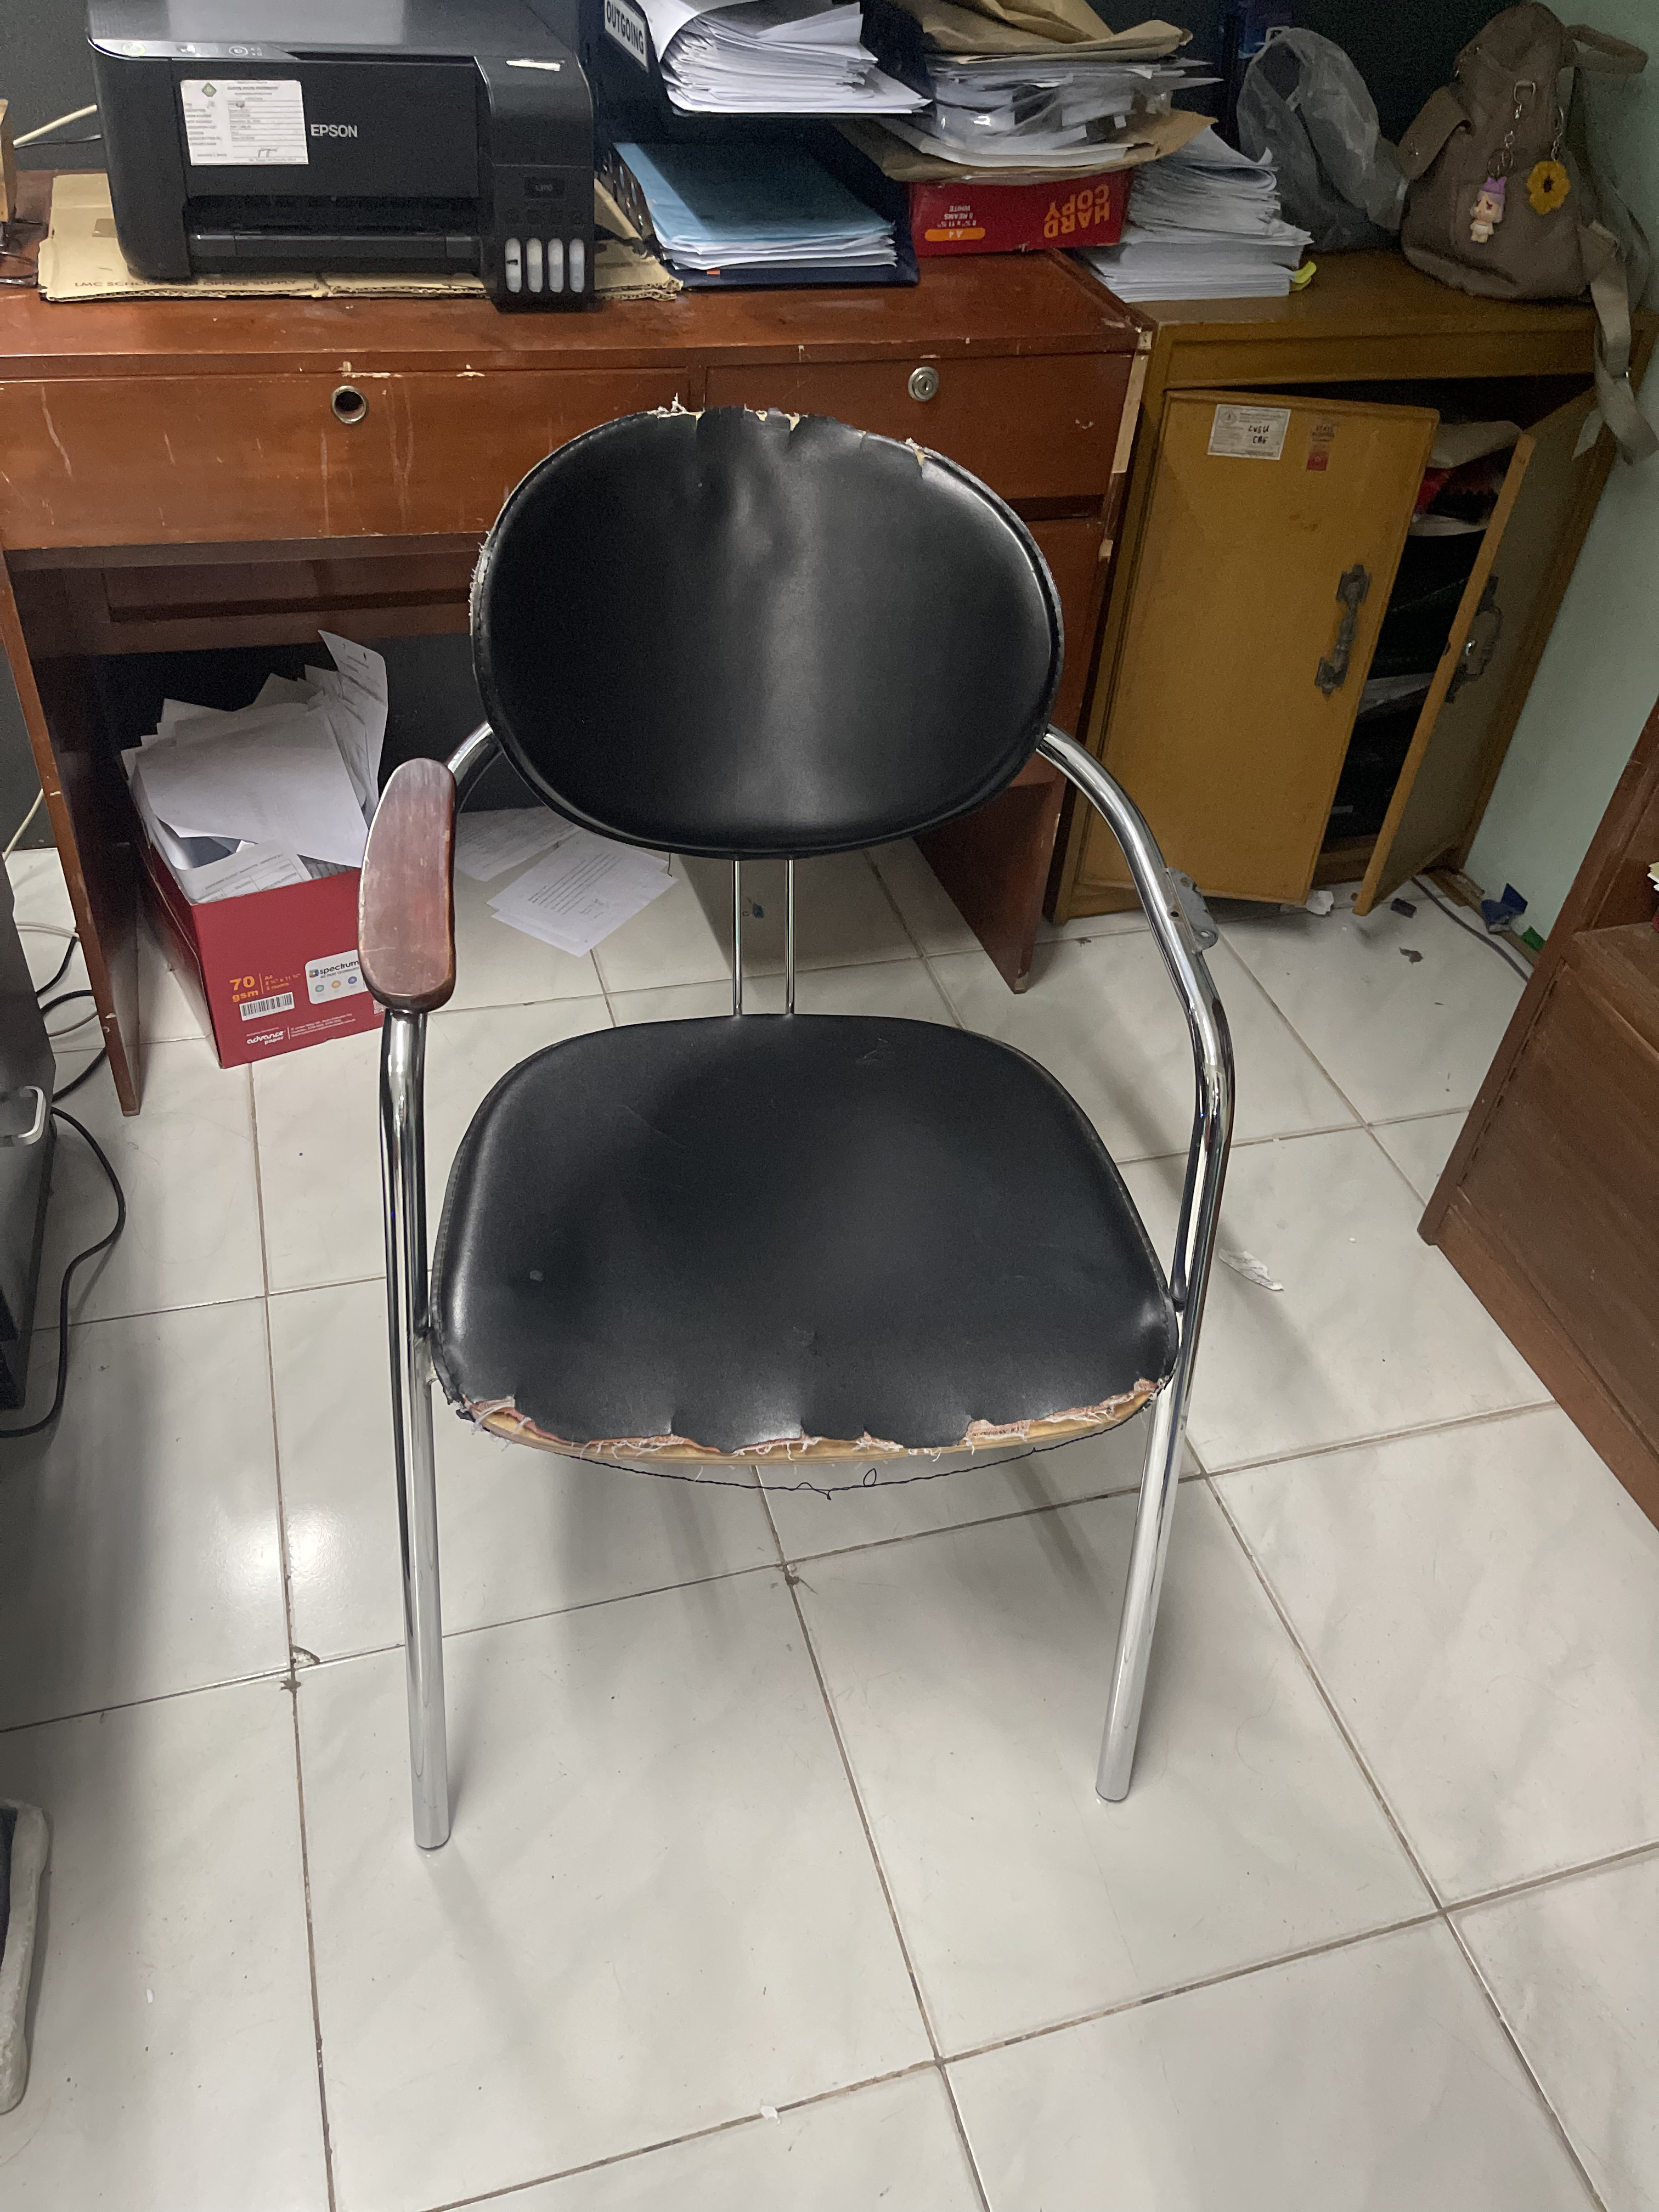chair1: (335, 402, 1246, 1858)
